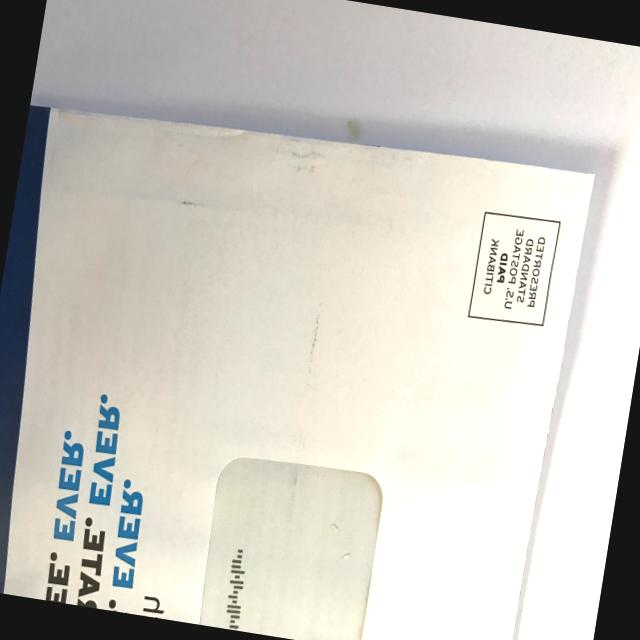Paper: (0, 69, 607, 640)
